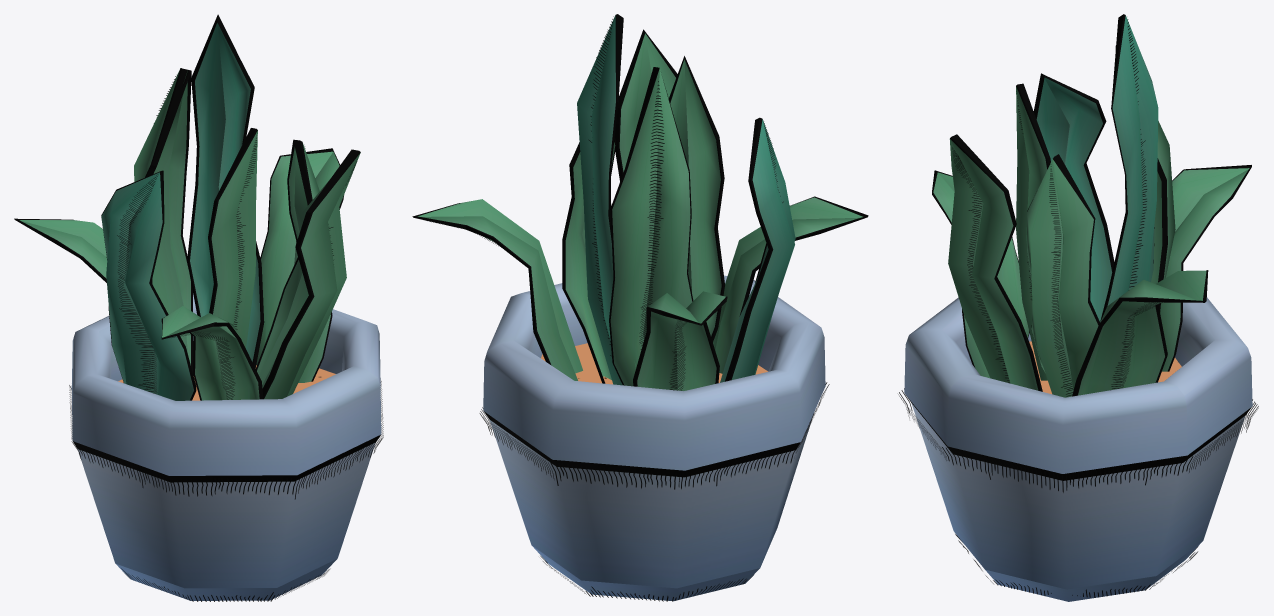
Rendered from pm-flower-pot-small-03.glb.
3 views of the same model, side by side, from view 1: azimuth 30°, elevation 25°; view 2: azimuth 150°, elevation 25°; view 3: azimuth 270°, elevation 25° (orthographic). The views are drawn at different scales.
Visible parts, largest first — view 1: FlowerPot_Small_03; view 2: FlowerPot_Small_03; view 3: FlowerPot_Small_03.
Boxes of the visible parts, bbox=[...] form: FlowerPot_Small_03: bbox=[14, 14, 383, 601]; FlowerPot_Small_03: bbox=[412, 14, 868, 601]; FlowerPot_Small_03: bbox=[898, 14, 1258, 601].
Size of the model in its own units: 0.758 by 1.21 by 0.724.
Materials: 3 (3 with a texture image).
